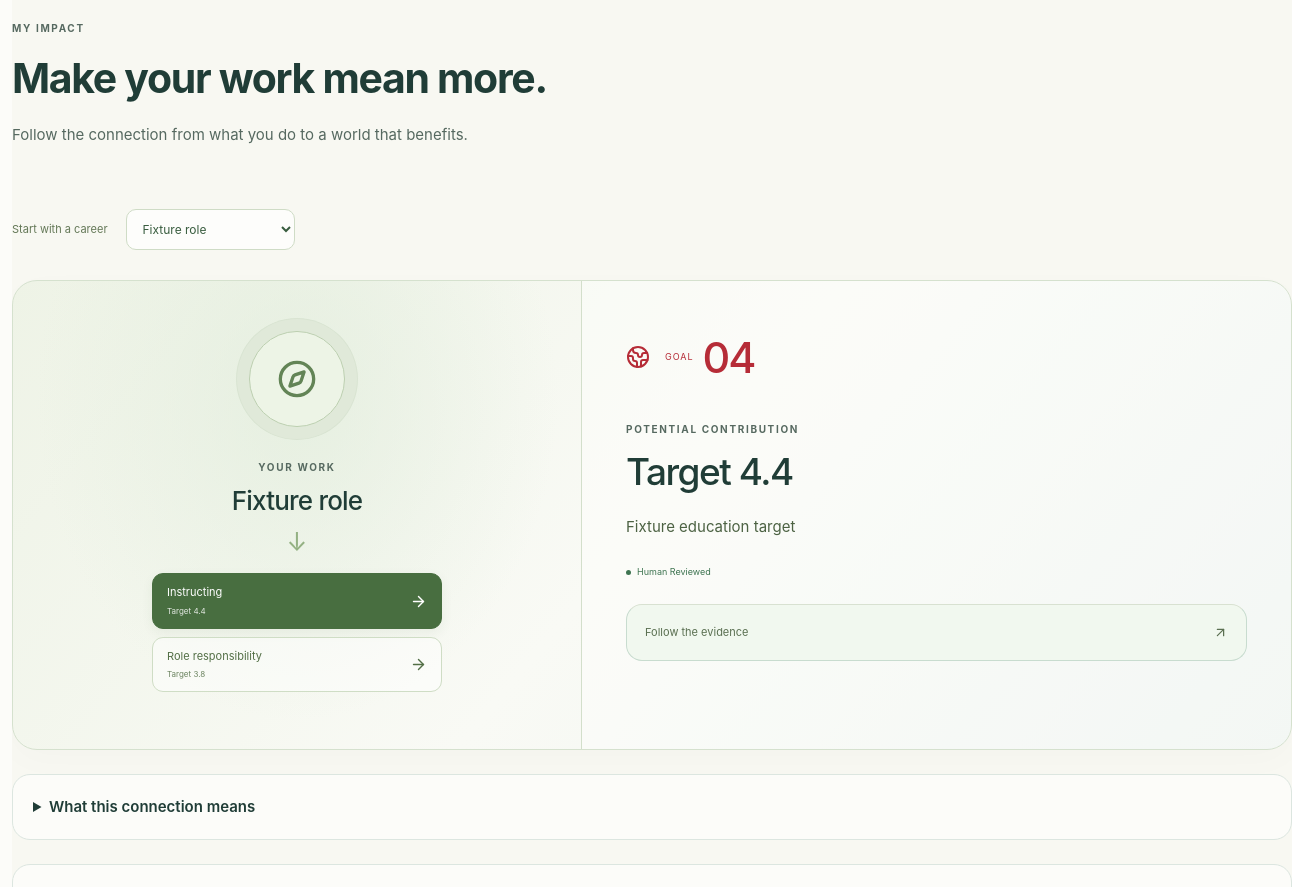
Test: focused evidence exploration › reveals the selected real target without promoting a pending proposal
Check: the heading "Target 4.4" is shown, box [626,449,793,494]
Click the button with aria-label "Role responsibility to target 3.8". click: (214, 656)
box: [152,637,442,692]
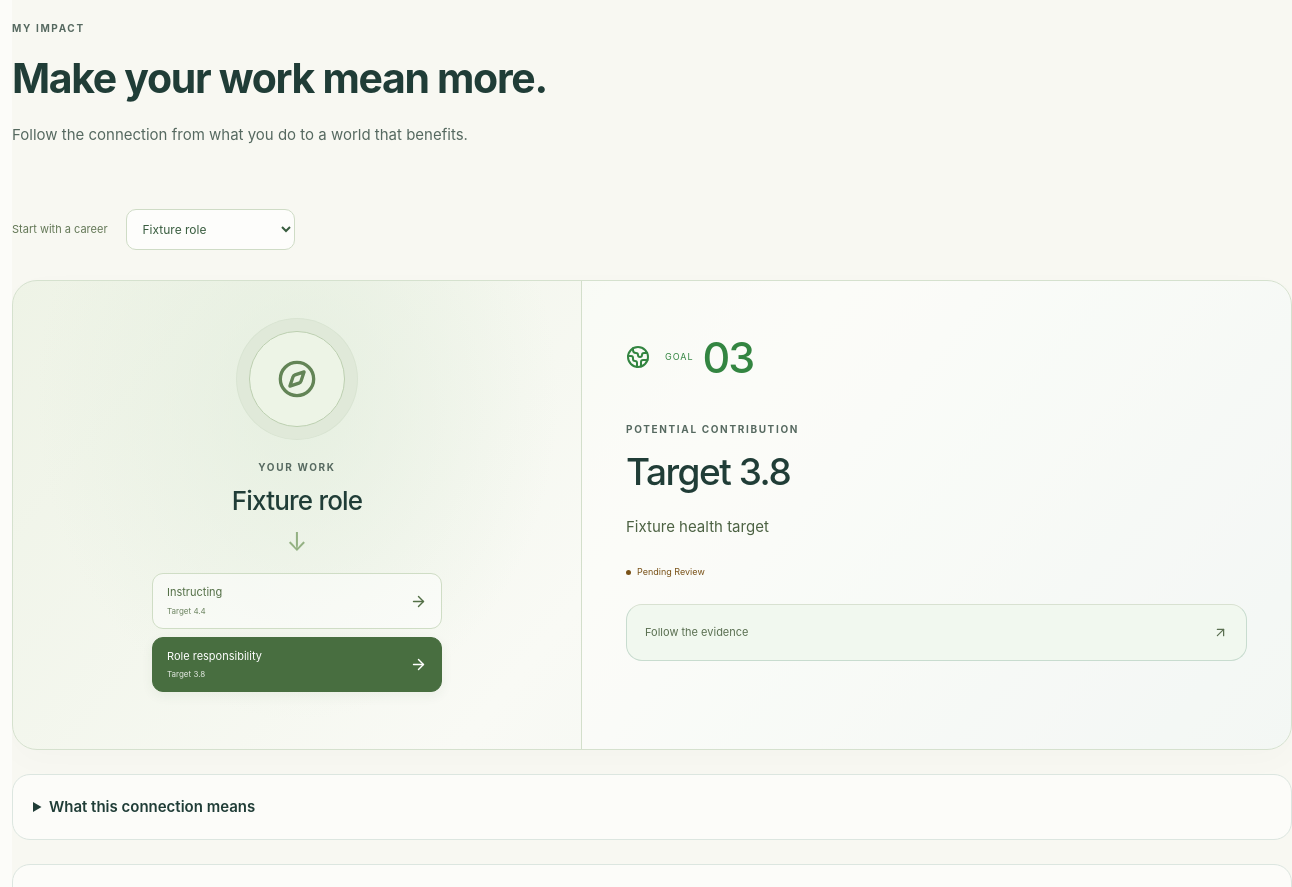
Check: the heading "Target 3.8" is shown, box [626,449,790,494]
Check: the text "Pending review" is shown, box [626,565,705,579]
